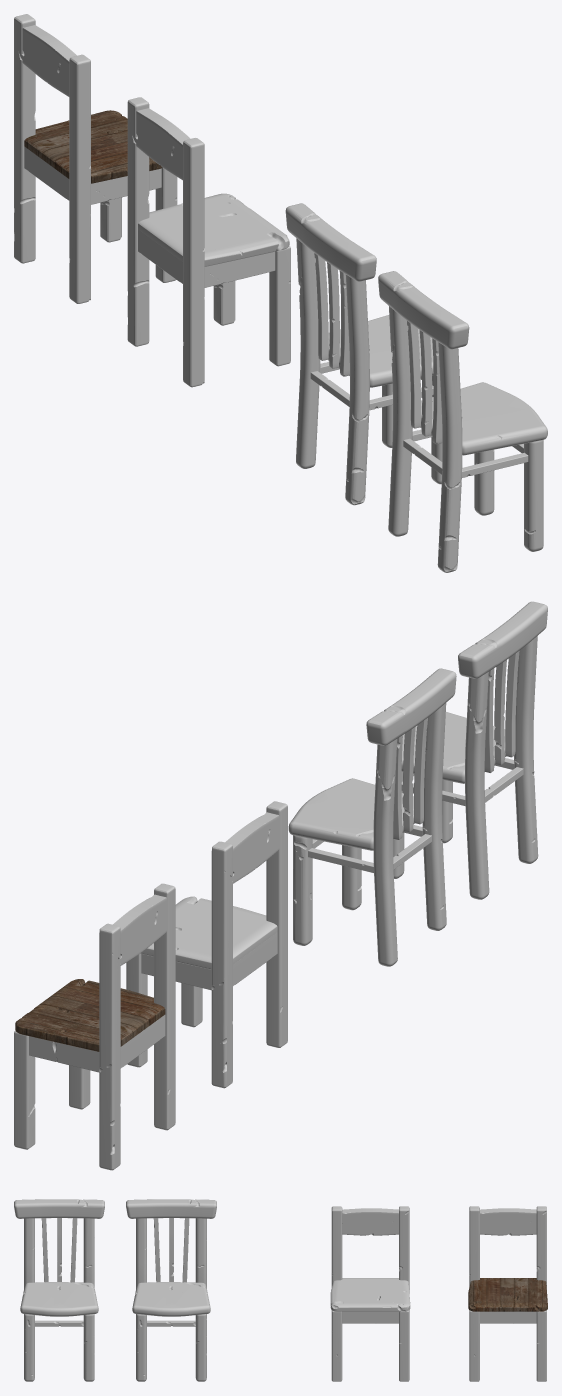
File: Стулья.fbx
3 views of the same model, one above another, from view 1: azimuth 30°, elevation 25°; view 2: azimuth 150°, elevation 25°; view 3: azimuth 270°, elevation 25° (orthographic). The views are drawn at different scales.
Visible parts, largest first — view 1: Cube.025_dmg, Cube.016_dmg, Cube.010_dmg.001, Cube.022_dmg.001; view 2: Cube.022_dmg.001, Cube.010_dmg.001, Cube.016_dmg, Cube.025_dmg; view 3: Cube.025_dmg, Cube.022_dmg.001, Cube.016_dmg, Cube.010_dmg.001.
Boxes of the visible parts, <box> form: Cube.025_dmg: <box>378,271,547,572</box>; Cube.016_dmg: <box>127,97,290,387</box>; Cube.010_dmg.001: <box>14,14,177,303</box>; Cube.022_dmg.001: <box>285,203,442,505</box>; Cube.022_dmg.001: <box>288,668,456,966</box>; Cube.010_dmg.001: <box>14,883,175,1170</box>; Cube.016_dmg: <box>126,801,287,1088</box>; Cube.025_dmg: <box>393,601,547,899</box>; Cube.025_dmg: <box>14,1199,104,1381</box>; Cube.022_dmg.001: <box>126,1199,216,1381</box>; Cube.016_dmg: <box>330,1206,410,1381</box>; Cube.010_dmg.001: <box>468,1206,547,1381</box>.
Bounding box in the file's own units: 229 × 479 × 1511.
